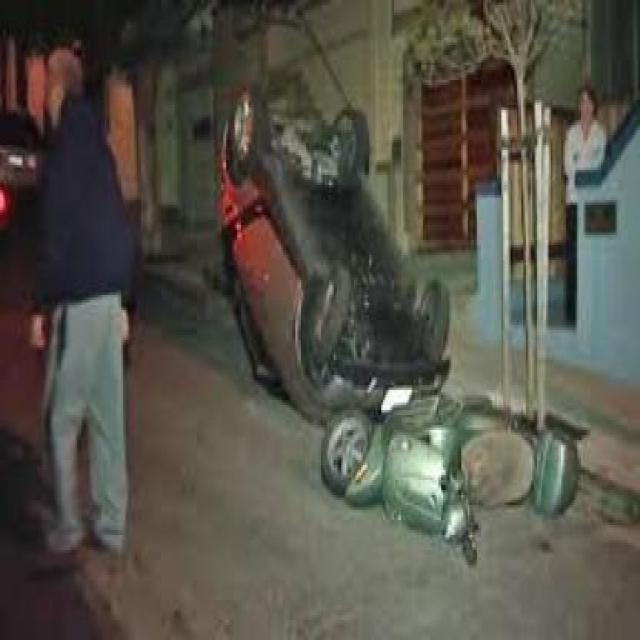accident: (208, 70, 460, 435)
